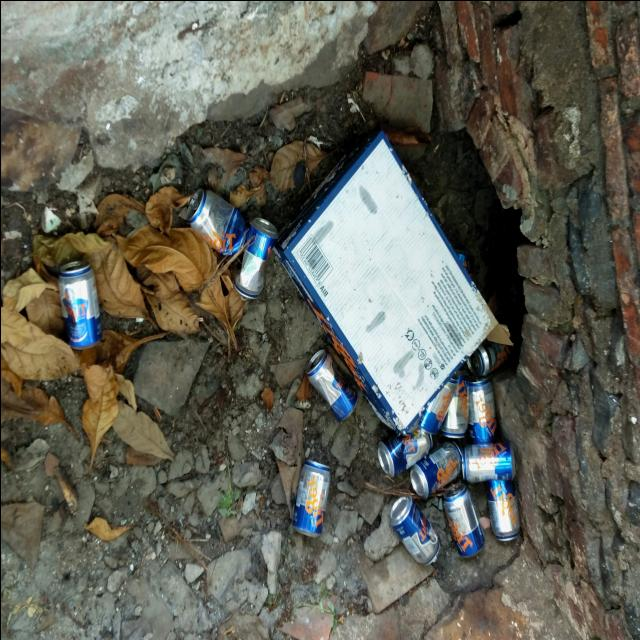Corrugated carton: (271, 130, 511, 434)
Drink can: (185, 186, 248, 257), (57, 260, 102, 350), (304, 348, 357, 422), (233, 218, 277, 298), (389, 495, 439, 565), (442, 483, 484, 556), (291, 459, 330, 537), (377, 420, 431, 476), (408, 439, 460, 497), (416, 377, 457, 434), (461, 441, 515, 482), (485, 480, 520, 540), (467, 375, 498, 442), (439, 369, 468, 437), (466, 342, 505, 376)
Pop tab: (188, 195, 197, 209), (450, 485, 457, 493), (313, 357, 319, 363), (240, 295, 246, 300)
